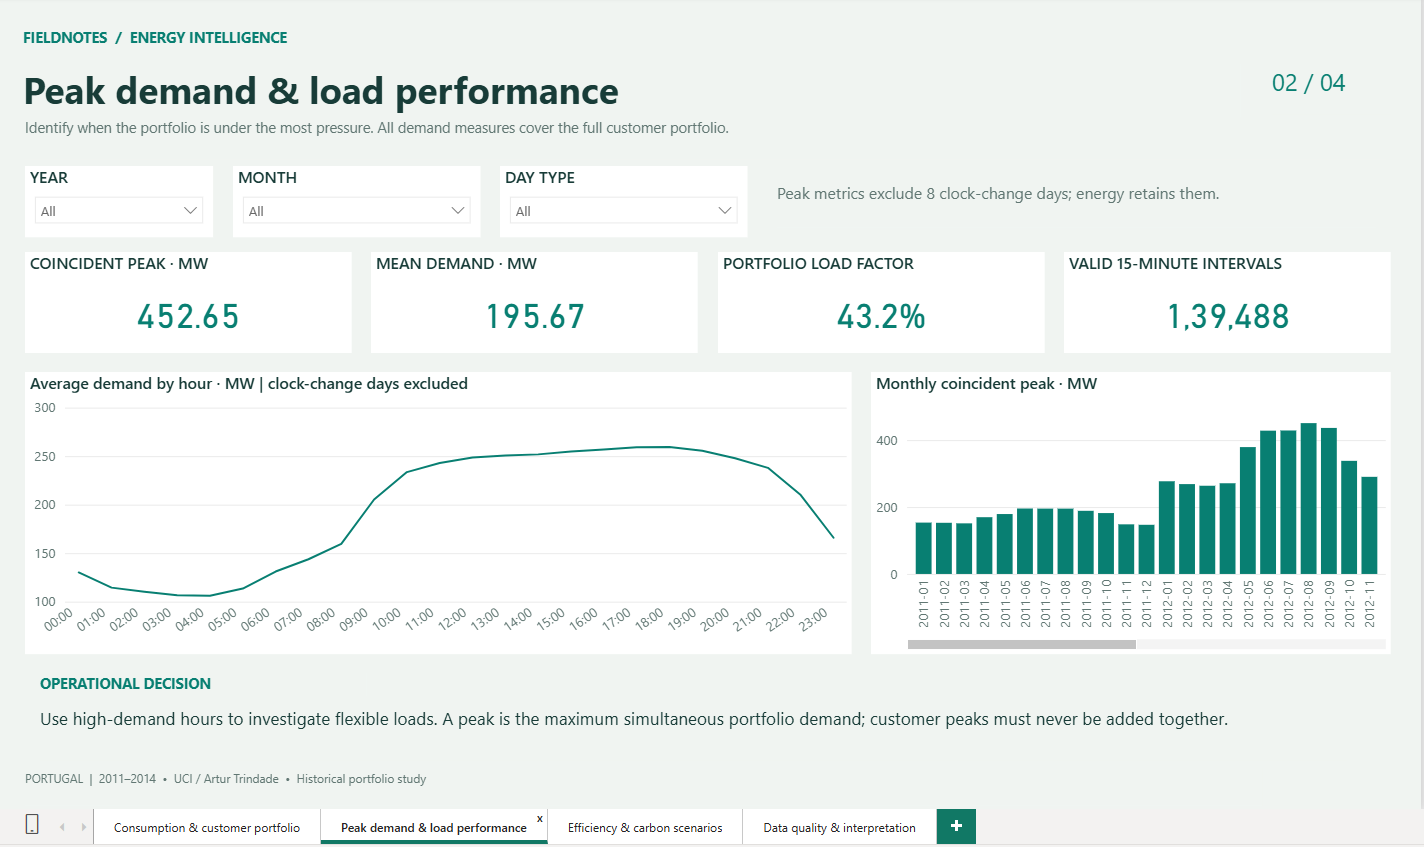

The page's visual inventory and layout, read from the dashboard file:
{"tool":"powerbi","page":{"name":"Peak demand & load performance","canvas":[1440,800],"ordinal":1},"visuals":[{"type":"textbox","box":[28,10,1000,39.5],"z":18},{"type":"textbox","box":[28,47,1230,65],"z":19},{"type":"textbox","box":[30,101,1375,43],"z":20},{"type":"textbox","box":[1290,48,120,50],"z":21},{"type":"textbox","box":[30,759,1250,38],"z":22},{"type":"slicer","title":"YEAR","fields":{"Values":["Date.Year"]},"box":[30,151,190,72],"z":23},{"type":"slicer","title":"MONTH","fields":{"Values":["Date.Month"]},"box":[240,151,250,72],"z":24},{"type":"slicer","title":"DAY TYPE","fields":{"Values":["Date.DayType"]},"box":[510,151,250,72],"z":25},{"type":"textbox","box":[790,167,605,46],"z":26},{"type":"card","title":"COINCIDENT PEAK · MW","fields":{"Values":["Metrics.System Peak MW"]},"box":[30,237,330,102],"z":27},{"type":"card","title":"MEAN DEMAND · MW","fields":{"Values":["Metrics.System Average MW"]},"box":[380,237,330,102],"z":28},{"type":"card","title":"PORTFOLIO LOAD FACTOR","fields":{"Values":["Metrics.System Load Factor"]},"box":[730,237,330,102],"z":29},{"type":"card","title":"VALID 15-MINUTE INTERVALS","fields":{"Values":["Metrics.Valid Intervals"]},"box":[1080,237,330,102],"z":30},{"type":"lineChart","title":"Average demand by hour · MW | clock-change days excluded","fields":{"Category":["Hour.HourLabel"],"Y":["Metrics.System Average MW"]},"box":[30,359,835,285],"z":31},{"type":"clusteredColumnChart","title":"Monthly coincident peak · MW","fields":{"Category":["Date.Month"],"Y":["Metrics.System Peak MW"]},"box":[885,359,525,285],"z":32},{"type":"textbox","box":[45,663,330,39.5],"z":33},{"type":"textbox","box":[45,696,1320,55],"z":34}]}

Visuals, with their boxes on the page's 1440x800 design canvas (x1, y1, x2, y2). These are canvas units, not pixel positions in the 1424x847 screenshot, which may show the page scaled, cropped or inside an application window:
textbox: 28/10/1028/50
textbox: 28/47/1258/112
textbox: 30/101/1405/144
textbox: 1290/48/1410/98
textbox: 30/759/1280/797
"YEAR" slicer: 30/151/220/223
"MONTH" slicer: 240/151/490/223
"DAY TYPE" slicer: 510/151/760/223
textbox: 790/167/1395/213
"COINCIDENT PEAK · MW" card: 30/237/360/339
"MEAN DEMAND · MW" card: 380/237/710/339
"PORTFOLIO LOAD FACTOR" card: 730/237/1060/339
"VALID 15-MINUTE INTERVALS" card: 1080/237/1410/339
"Average demand by hour · MW | clock-change days excluded" lineChart: 30/359/865/644
"Monthly coincident peak · MW" clusteredColumnChart: 885/359/1410/644
textbox: 45/663/375/702
textbox: 45/696/1365/751
